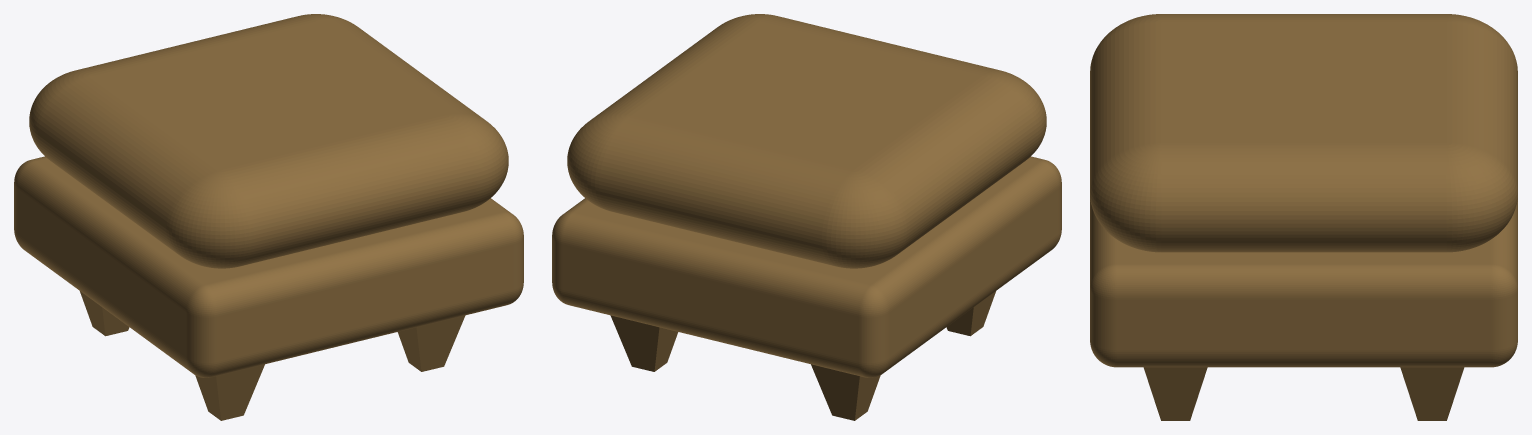
File: Mighty Leelo (3).glb
The picture shows the model from 3 angles, left to right: view 1: azimuth 30°, elevation 25°; view 2: azimuth 150°, elevation 25°; view 3: azimuth 270°, elevation 25°; orthographic projection. The views are drawn at different scales.
Visible parts, largest first — view 1: Mesh_Mesh_head_geo.001_lambert2SG.001; view 2: Mesh_Mesh_head_geo.001_lambert2SG.001; view 3: Mesh_Mesh_head_geo.001_lambert2SG.001.
Part boxes in pixels (box(x1,y1,x2,y2)): Mesh_Mesh_head_geo.001_lambert2SG.001: box(14, 14, 523, 420); Mesh_Mesh_head_geo.001_lambert2SG.001: box(552, 14, 1061, 420); Mesh_Mesh_head_geo.001_lambert2SG.001: box(1090, 14, 1517, 420).
Size of the model in its own units: 0.027 by 0.0194 by 0.027.
